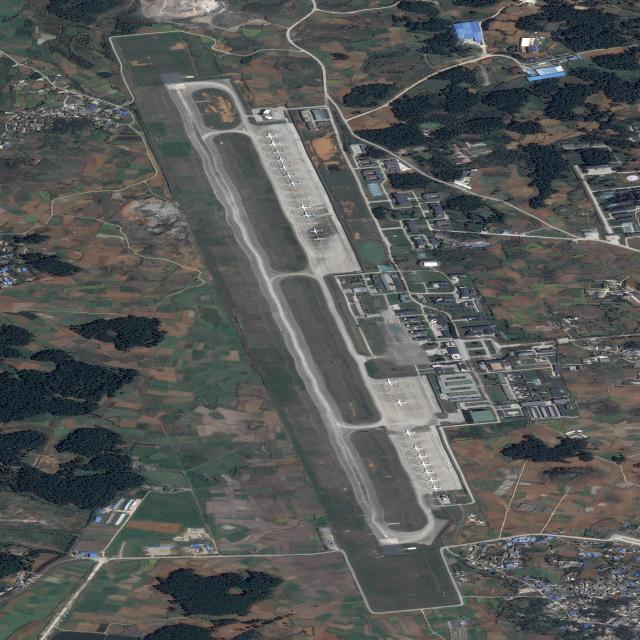plane: (281, 178, 301, 187), (276, 163, 294, 172), (268, 147, 286, 156), (306, 227, 325, 235), (380, 378, 399, 386), (425, 484, 443, 492), (418, 468, 436, 476), (310, 235, 327, 243), (280, 171, 297, 179), (415, 460, 432, 468), (299, 211, 315, 219), (464, 512, 480, 520), (400, 428, 416, 436), (262, 132, 278, 140), (296, 203, 311, 211), (266, 140, 281, 148), (473, 518, 488, 526), (424, 476, 439, 484), (412, 453, 429, 460), (391, 399, 408, 406), (273, 156, 289, 163), (465, 515, 479, 523), (409, 445, 425, 452)
small-vehicle: (305, 16, 308, 17)
